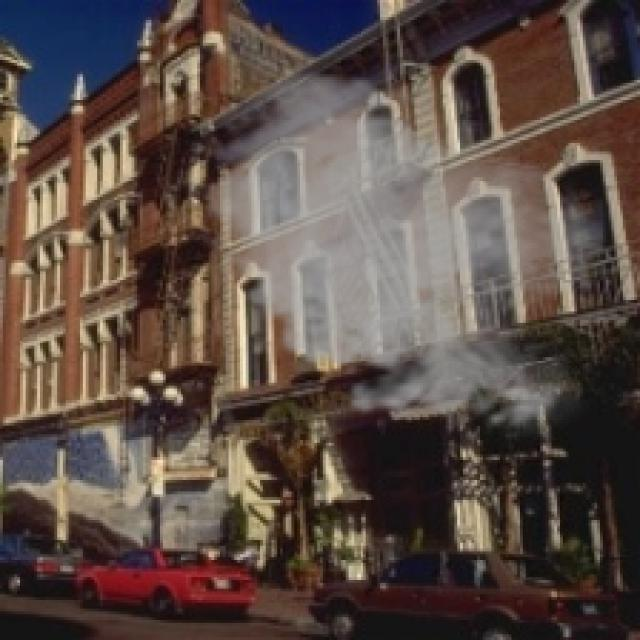smoke: (188, 63, 608, 440)
